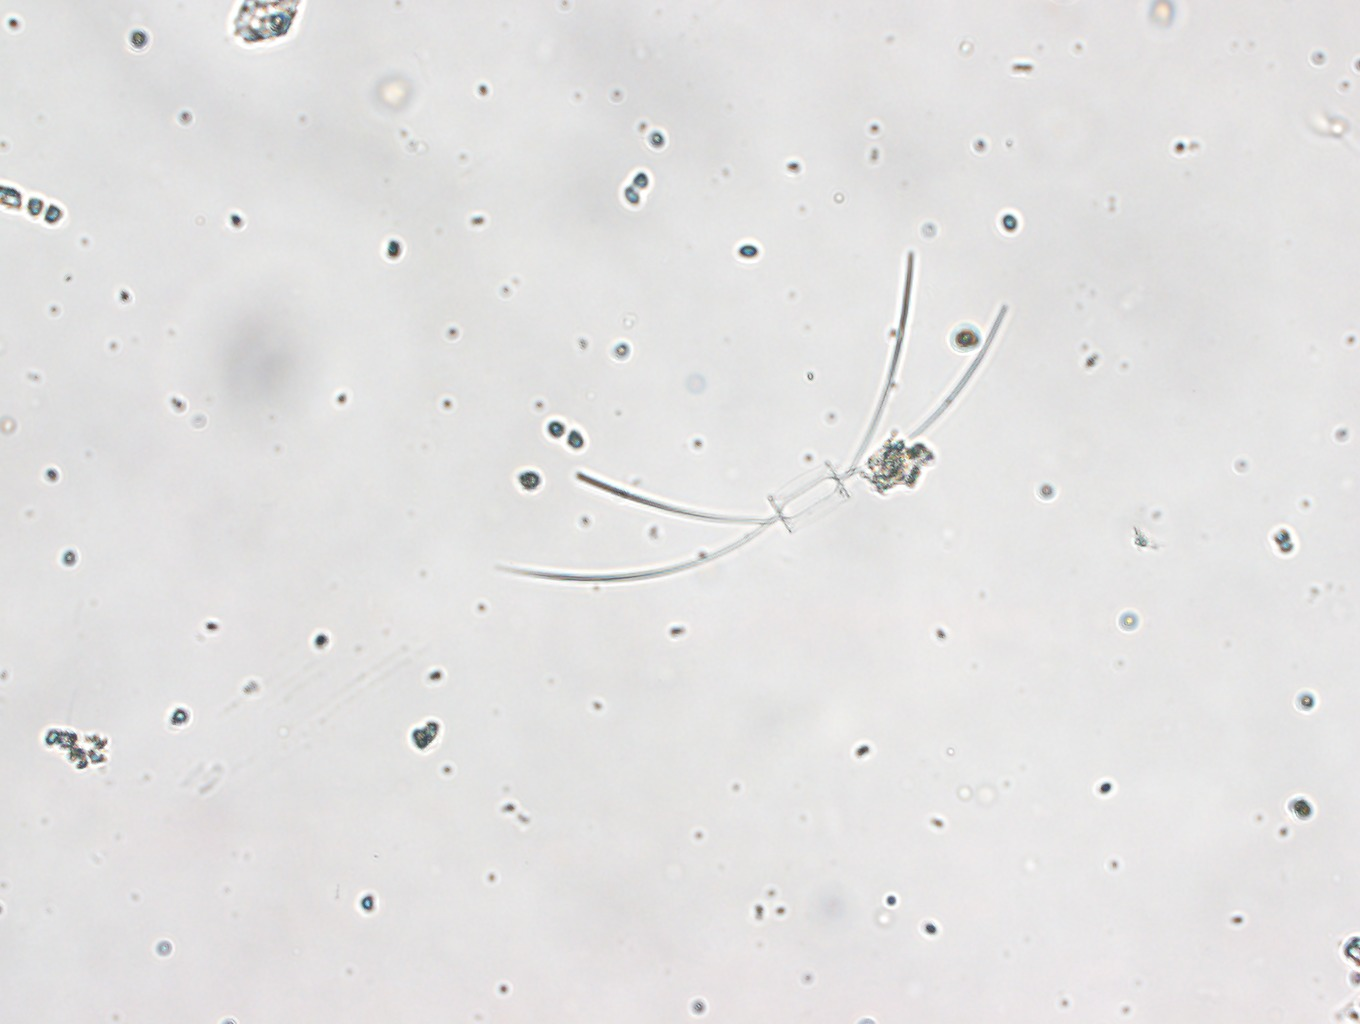chaetoceros: (493, 248, 1007, 583)
